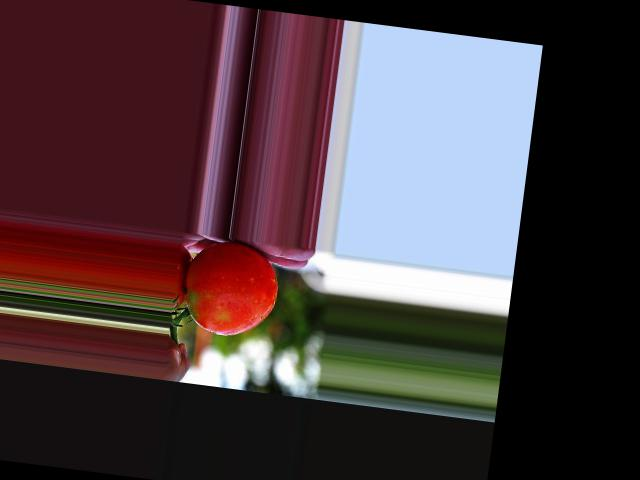tomato: (180, 237, 282, 341)
